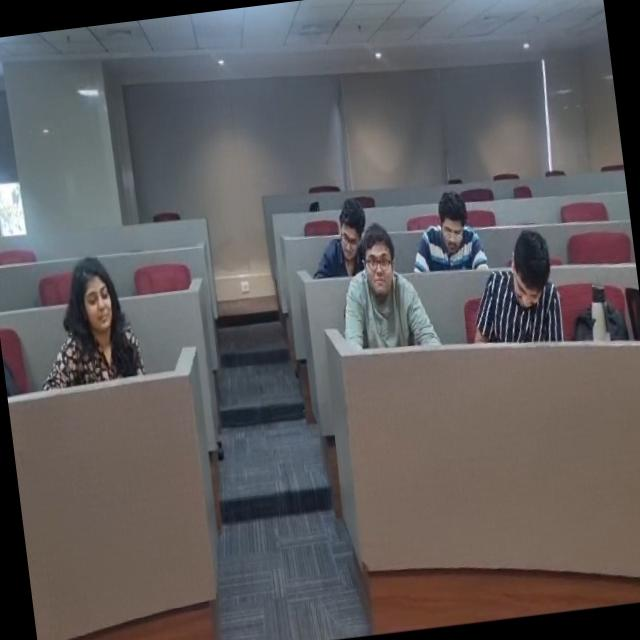non-cheating: (32, 233, 150, 374), (486, 212, 568, 334), (348, 226, 414, 335), (302, 188, 376, 266), (414, 180, 475, 258)
